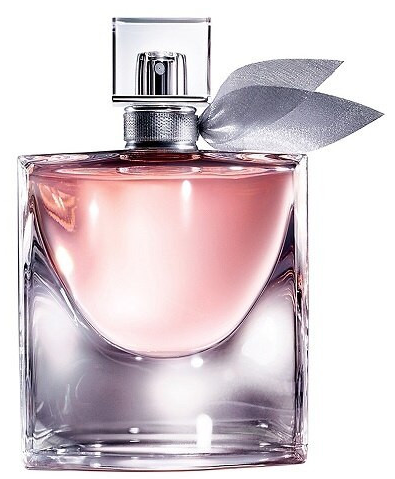lancome_la_vie_est_belle: (17, 4, 385, 476)
